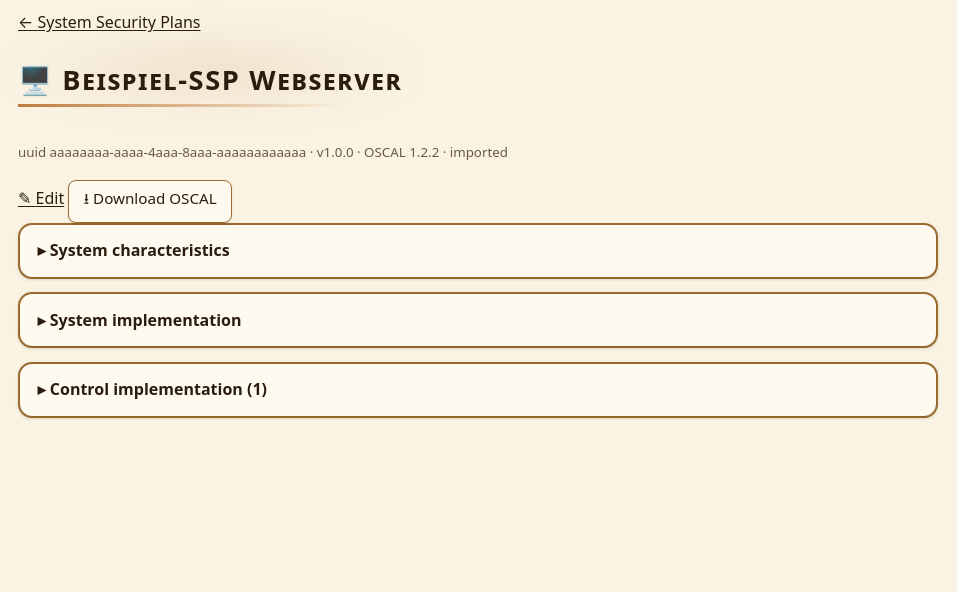
Test: detail page › shows the by-component title, description, and implementation-status once expanded
What coordinates should you click on to do the following:
click the button with test id "ssp-section-control-impl-toggle"
I would click on:
 (158, 389)
Its box is 20,364 -> 936,416.
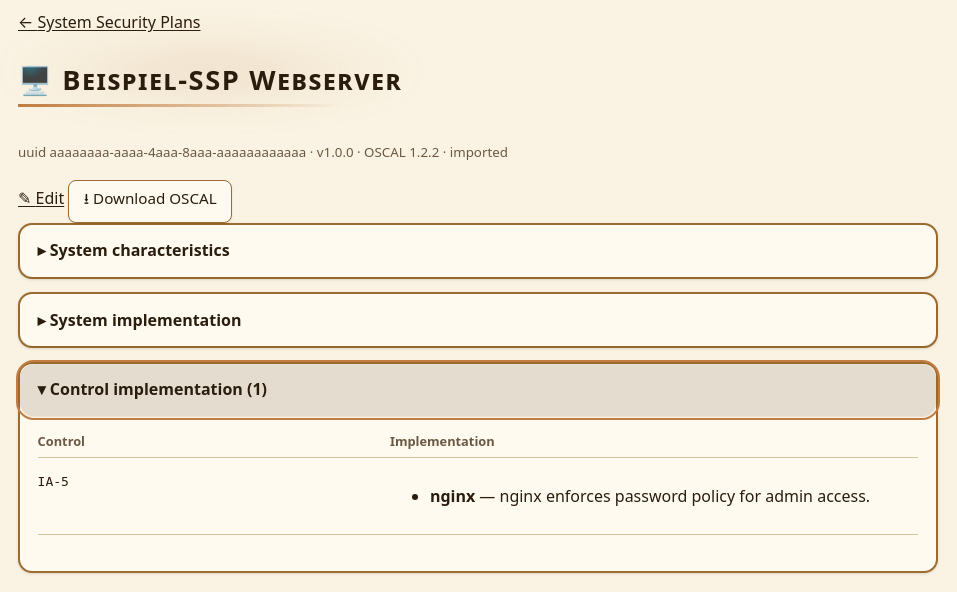
Check: the list item with test id "ssp-by-component" shows "nginx", box 430,485 -> 475,507
Check: the list item with test id "ssp-by-component" shows "nginx enforces password policy for admin access.", box 500,485 -> 870,507
